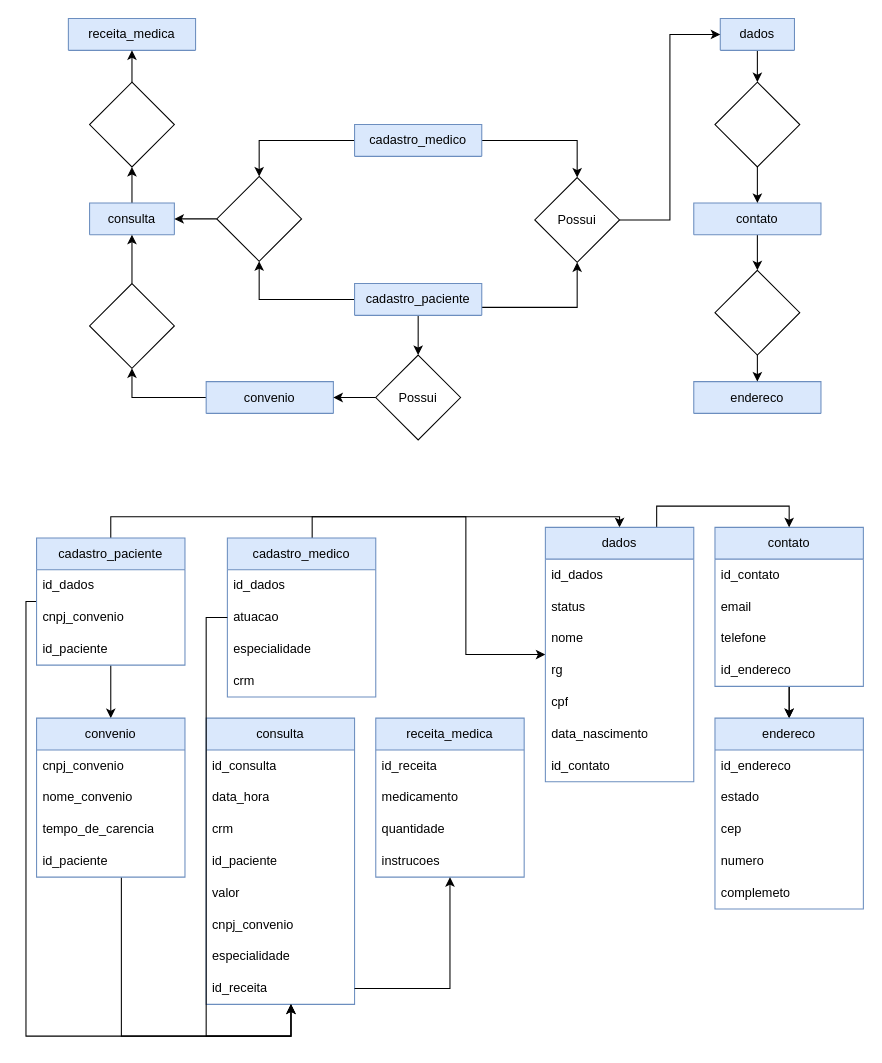
The diagram is 882 pixels wide and 1063 high, and some of its shapes have lost their labels. Here are the shapes that lost their labels. From the top down, the centre of each, then its label:
(131,124): Registra
(757,124): Armazena
(259,218): Realiza
(131,325): Paga
(757,312): Informa
